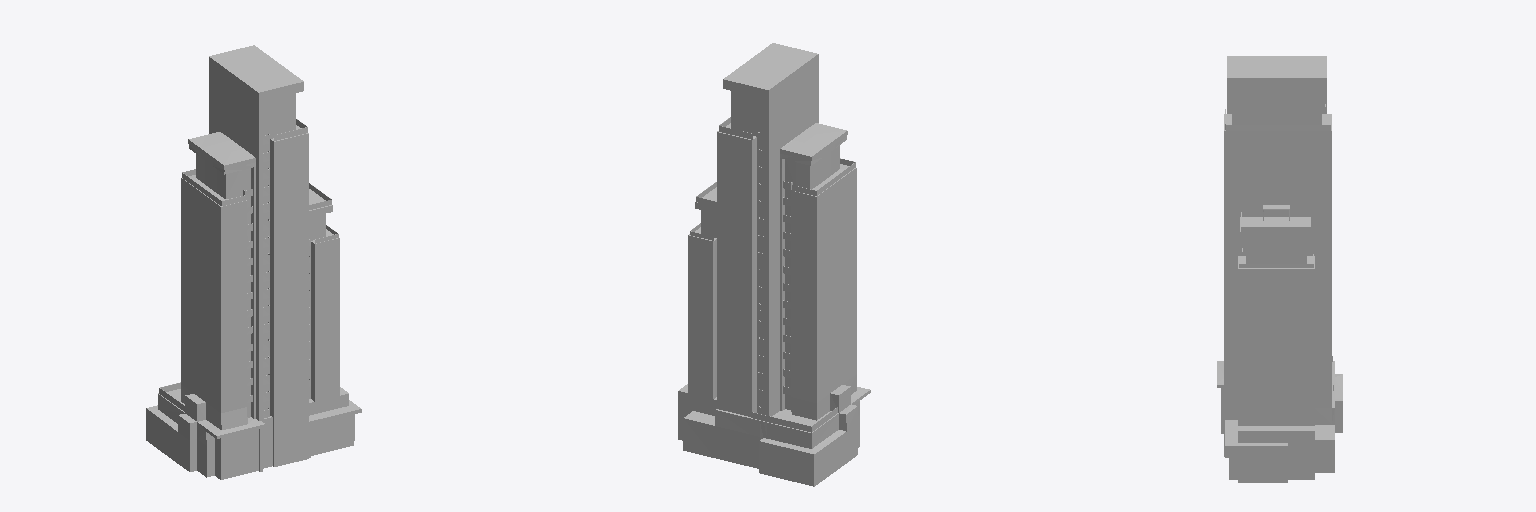
Rendered from TB1NB_JRVXXXXc4XpXXXXXXXXXX.obj.
3 views of the same model, side by side, from view 1: azimuth 30°, elevation 25°; view 2: azimuth 150°, elevation 25°; view 3: azimuth 270°, elevation 25° (orthographic).
Parts seen in each view (by area): view 1: BuildingH:BuildingH BuildingH:BuildingH_model_GRP BuildingH:NY5 ; view 2: BuildingH:BuildingH BuildingH:BuildingH_model_GRP BuildingH:NY5 ; view 3: BuildingH:BuildingH BuildingH:BuildingH_model_GRP BuildingH:NY5 .
Boxes of the visible parts, x1,y1,x2,y2 form: BuildingH:BuildingH BuildingH:BuildingH_model_GRP BuildingH:NY5 : [146, 45, 361, 479]; BuildingH:BuildingH BuildingH:BuildingH_model_GRP BuildingH:NY5 : [678, 43, 870, 486]; BuildingH:BuildingH BuildingH:BuildingH_model_GRP BuildingH:NY5 : [1217, 56, 1342, 482].
Size of the model in its own units: 16025 by 36855 by 11247.